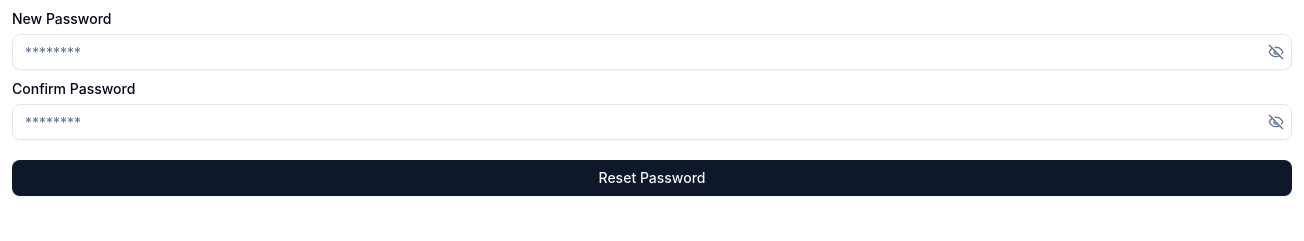
it: ResetPasswordForm › shows a mismatch error when passwords do not match
The width and height of the screenshot is (1304, 241).
Type "12345678" into the password field labelled "New Password" at (652, 52), box [12, 34, 1292, 70]
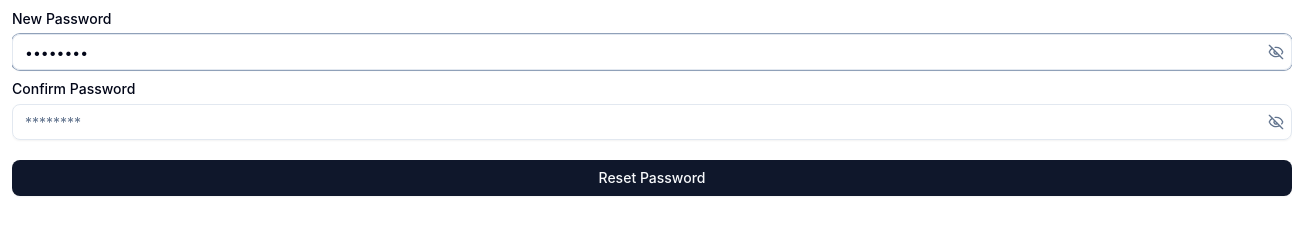
Type "87654321" into the password field labelled "Confirm Password" at (652, 122), box [12, 104, 1292, 140]
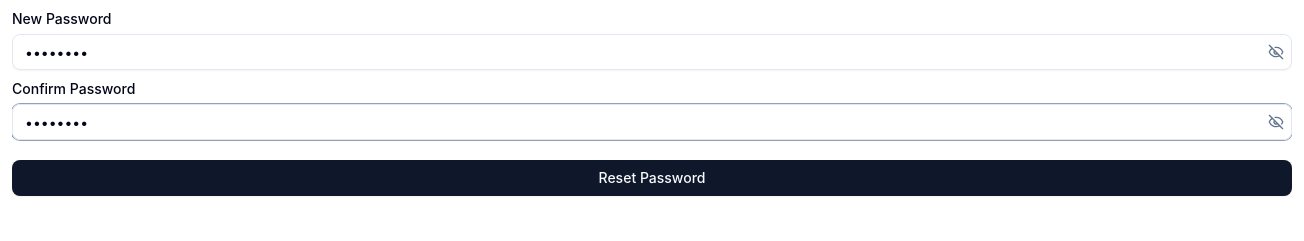
Click the button "Reset Password" at (652, 178), box [12, 160, 1292, 196]
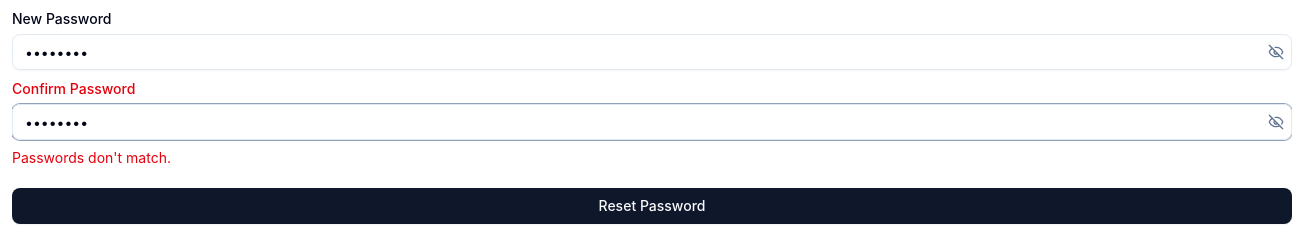
Expected: the text "Passwords don't match." is shown, [12, 149, 171, 166]
